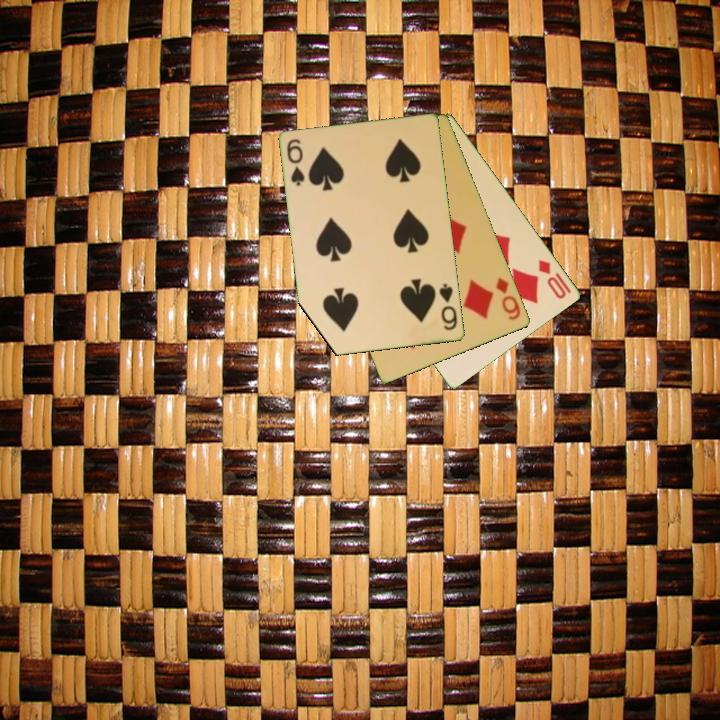10d: (535, 256, 570, 302)
6d: (492, 274, 524, 323)
6s: (283, 135, 308, 189), (436, 280, 460, 333)
